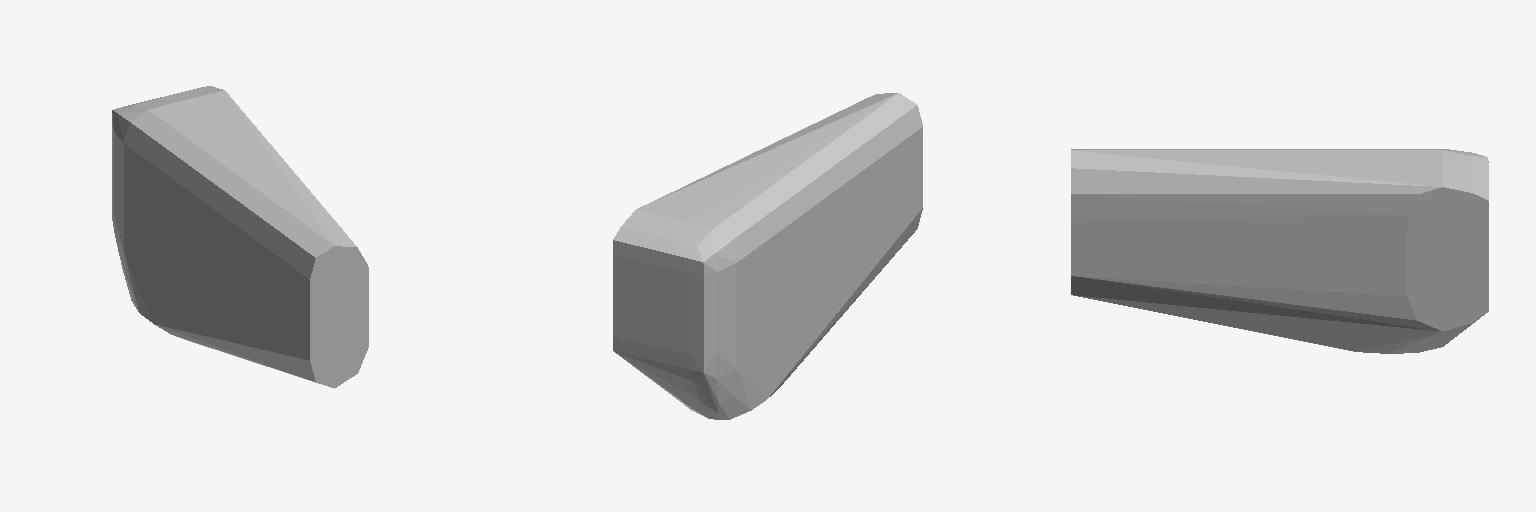
File: Cart_outer_skeleton_collision_20.obj
The picture shows the model from 3 angles: view 1: azimuth 30°, elevation 25°; view 2: azimuth 150°, elevation 25°; view 3: azimuth 270°, elevation 25°; orthographic projection.
Size of the model in its own units: 0.0329 by 0.058 by 0.1177.